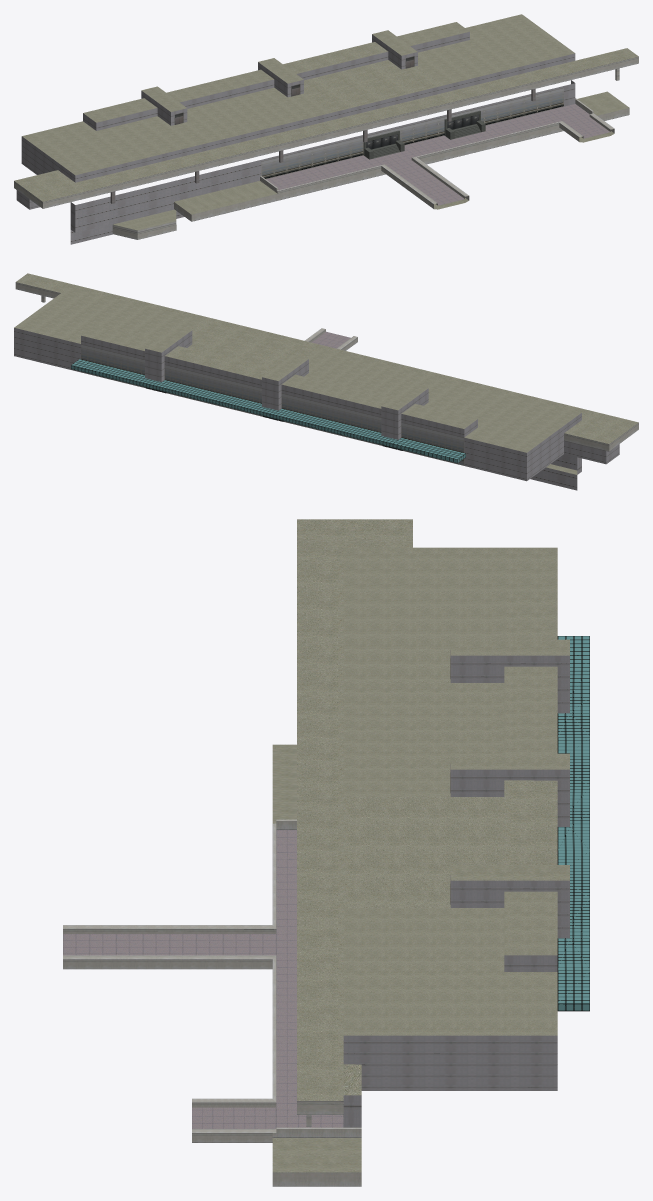
Rendered from lasairprterm1_las.obj.
3 renders of one model, top to bottom at view 1: azimuth 30°, elevation 25°; view 2: azimuth 150°, elevation 25°; view 3: azimuth 270°, elevation 25°, orthographic. The views are drawn at different scales.
Visible parts, largest first — view 1: lasairprterm1_LAS; view 2: lasairprterm1_LAS; view 3: lasairprterm1_LAS.
Part boxes in pixels (box(x1,y1,x2,y2)): lasairprterm1_LAS: box(14, 14, 638, 244); lasairprterm1_LAS: box(14, 273, 638, 490); lasairprterm1_LAS: box(63, 519, 589, 1186).
Size of the model in its own units: 227 by 31.72 by 87.14.
